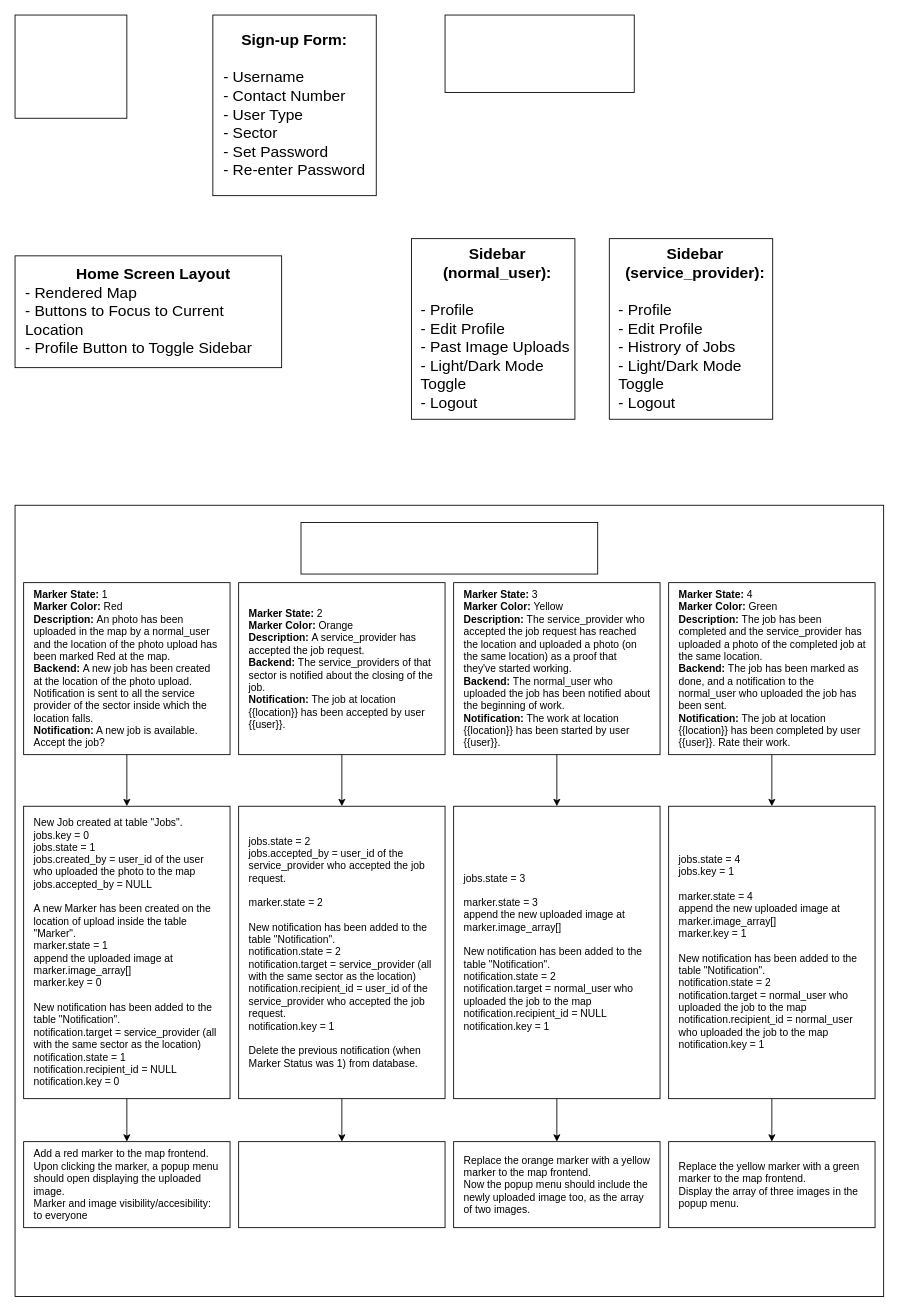
This 899x1312 diagram has some shape labels left out. Here are the shapes that lost their labels. From the top down, the centre of each, then its label:
At (70,66): "Sign-in Form: - Username - Password".
At (539,53): "User has two types: 1. normal_user 2. service_provider".
At (449,548): "Markers and Their Functionalities".
At (341,1184): "Replace the red marker with an orange marker to the map frontend.".
